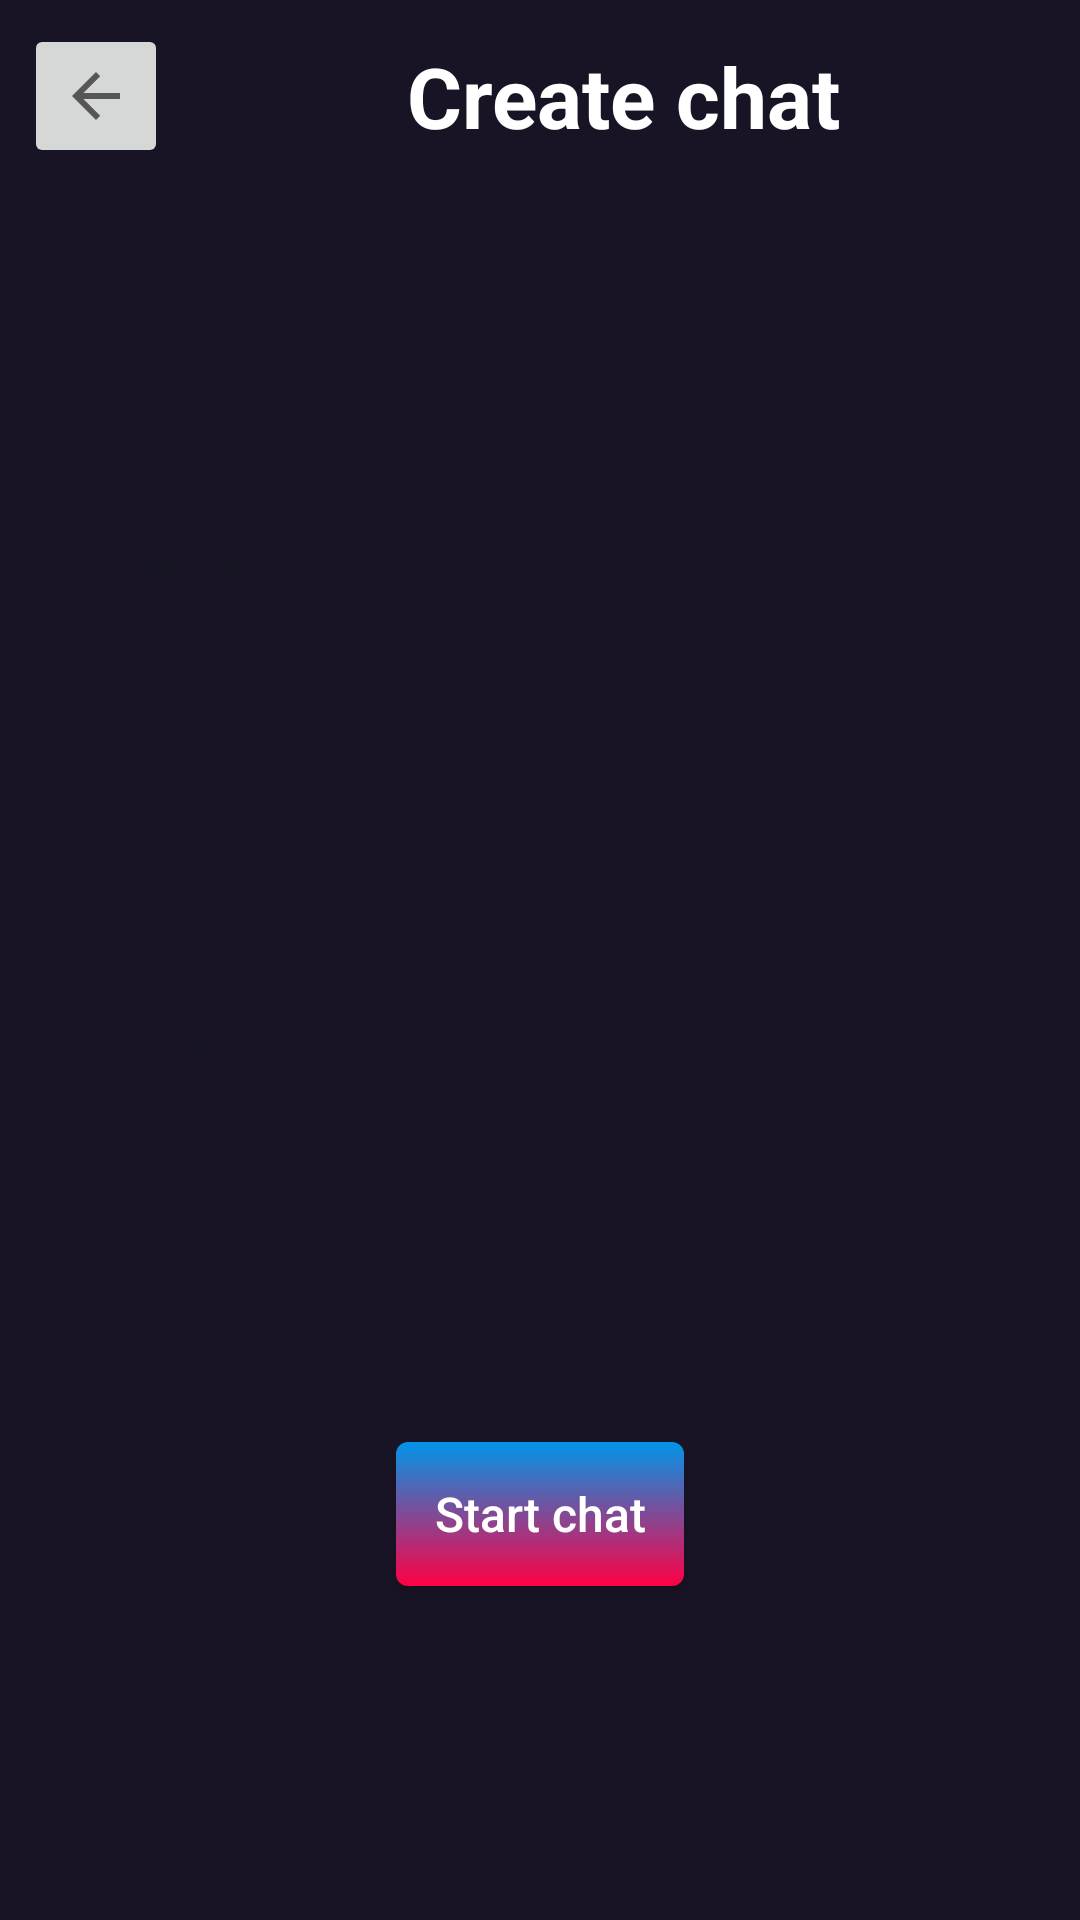

Icon bounding boxes for this 1080x1920 phone screenshot, format bbox=(x1, y1, x2, y2):
Back: bbox=(36, 42, 156, 150)
